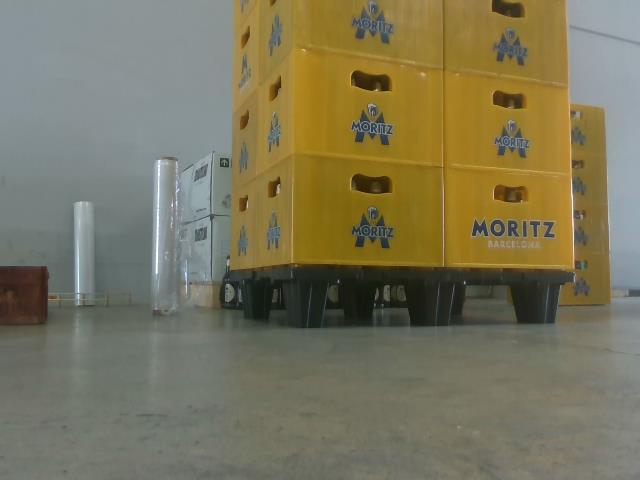block: (409, 281, 467, 328), (509, 279, 563, 322), (284, 279, 328, 329), (338, 281, 378, 324), (238, 282, 274, 322)
front: (288, 263, 579, 330)
hole pallet: (320, 278, 420, 330), (458, 282, 537, 326)
